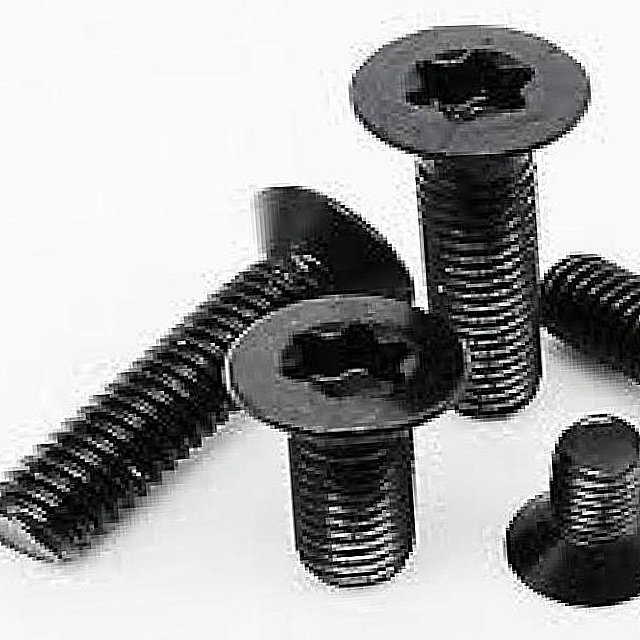torx: (221, 286, 478, 439), (341, 18, 599, 153)
